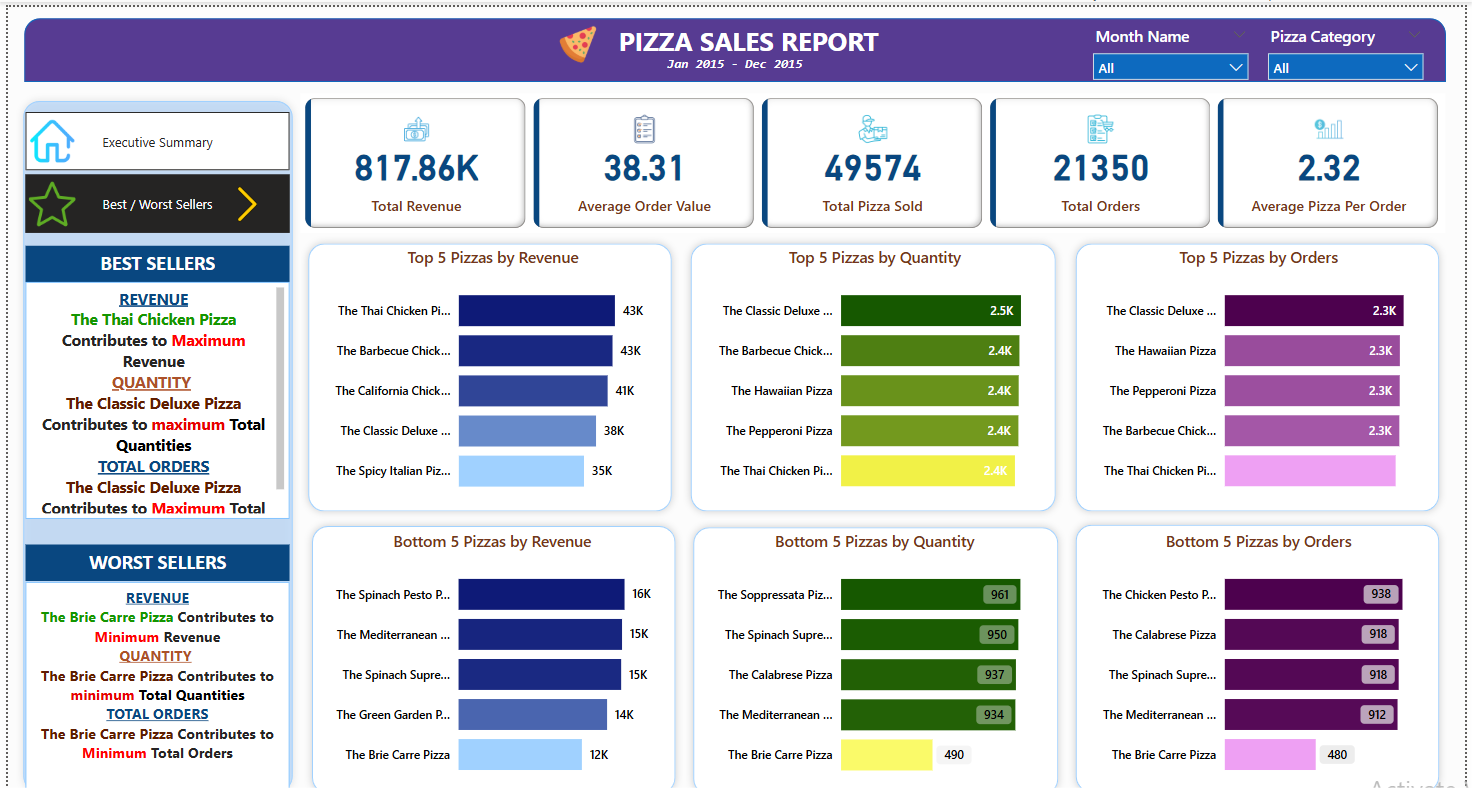

The dashboard page shown, as its layout file describes it:
{"tool":"powerbi","page":{"name":"Best / Worst Sellers","canvas":[1500,820],"ordinal":1},"visuals":[{"type":"shape","box":[8.2,88.6,293.6,728.2],"z":0},{"type":"cardVisual","fields":{"Data":["Calculated Measures.Total Revenue","Calculated Measures.Average Order Value","Calculated Measures.Total Pizza Sold","Calculated Measures.Total Orders","Calculated Measures.Average Pizza Per Order"]},"box":[301.8,88.6,1179.2,144.3],"z":1000},{"type":"shape","box":[16.4,11.5,1464.5,65.6],"z":2000},{"type":"textbox","box":[606.8,11.5,313.2,65.6],"z":3000},{"type":"textbox","box":[611.7,44.3,273.9,32.8],"z":4000},{"type":"image","box":[562.5,14.8,49.2,49.2],"z":5000},{"type":"shape","box":[301.8,236.2,390.3,291.9],"z":10000},{"type":"shape","box":[695.4,236.2,392,291.9],"z":11000},{"type":"shape","box":[1092.2,236.2,390.3,291.9],"z":12000},{"type":"textbox","box":[18,246,272.2,37.7],"z":16000},{"type":"textbox","box":[18,283.7,272.2,244.4],"z":17000},{"type":"textbox","box":[18,554.3,272.2,37.7],"z":18000},{"type":"textbox","box":[18,592,272.2,213.2],"z":19000},{"type":"slicer","fields":{"Values":["Pizza Category Key.Pizza Category"]},"box":[1287.5,14.2,180,61.7],"z":20000},{"type":"slicer","fields":{"Values":["Date.Month_Name"]},"box":[1107.5,14.2,180,61.7],"z":21000},{"type":"shape","box":[305,526.5,390.3,291.9],"z":21001},{"type":"shape","box":[697.8,528.1,392,291.9],"z":21002},{"type":"shape","box":[1092.2,524.8,390.3,291.9],"z":21003},{"type":"barChart","title":"Top 5 Pizzas by Revenue","fields":{"Category":["Pizza Name Dim.Pizza Name"],"Y":["Calculated Measures.Total Revenue"]},"box":[320,246,358,271],"z":21004},{"type":"barChart","title":"Bottom 5 Pizzas by Revenue","fields":{"Category":["Pizza Name Dim.Pizza Name"],"Y":["Calculated Measures.Total Revenue"]},"box":[319.8,537.9,359.2,270.6],"z":21005},{"type":"barChart","title":"Top 5 Pizzas by Quantity","fields":{"Category":["Pizza Name Dim.Pizza Name"],"Y":["Calculated Measures.Total Pizza Sold"]},"box":[713.4,246,359.2,270.6],"z":21006},{"type":"barChart","title":"Bottom 5 Pizzas by Quantity","fields":{"Category":["Pizza Name Dim.Pizza Name"],"Y":["Calculated Measures.Total Pizza Sold"]},"box":[713.3,538.9,358.9,271.1],"z":21007},{"type":"barChart","title":"Top 5 Pizzas by Orders","fields":{"Category":["Pizza Name Dim.Pizza Name"],"Y":["Calculated Measures.Total Orders"]},"box":[1108.6,246,359.2,270.6],"z":21008},{"type":"barChart","title":"Bottom 5 Pizzas by Orders","fields":{"Category":["Pizza Name Dim.Pizza Name"],"Y":["Calculated Measures.Total Orders"]},"box":[1108.6,537.9,359.2,270.6],"z":21009},{"type":"pageNavigator","box":[18,172.2,272.2,60.7],"z":21010},{"type":"pageNavigator","box":[18,108.2,272.2,60.7],"z":21011},{"type":"image","box":[201.7,180.4,88.6,45.9],"z":21012},{"type":"image","box":[18,108.2,55.8,60.7],"z":21013},{"type":"image","box":[16.4,172.2,57.4,60.7],"z":21014}]}

Visuals, with their boxes in screenshot pixels (x1, y1, x2, y2), scaled from the page's 1500x820 canvas onto the 1472x788 screenshot:
shape: <bbox>8, 85, 296, 785</bbox>
cardVisual - Calculated Measures.Total Revenue x Calculated Measures.Average Order Value: <bbox>296, 85, 1453, 224</bbox>
shape: <bbox>16, 11, 1453, 74</bbox>
textbox: <bbox>595, 11, 903, 74</bbox>
textbox: <bbox>600, 43, 869, 74</bbox>
image: <bbox>552, 14, 600, 62</bbox>
shape: <bbox>296, 227, 679, 507</bbox>
shape: <bbox>682, 227, 1067, 507</bbox>
shape: <bbox>1072, 227, 1455, 507</bbox>
textbox: <bbox>18, 236, 285, 273</bbox>
textbox: <bbox>18, 273, 285, 507</bbox>
textbox: <bbox>18, 533, 285, 569</bbox>
textbox: <bbox>18, 569, 285, 774</bbox>
slicer - Pizza Category Key.Pizza Category: <bbox>1263, 14, 1440, 73</bbox>
slicer - Date.Month_Name: <bbox>1087, 14, 1263, 73</bbox>
shape: <bbox>299, 506, 682, 786</bbox>
shape: <bbox>685, 507, 1069, 787</bbox>
shape: <bbox>1072, 504, 1455, 785</bbox>
"Top 5 Pizzas by Revenue" barChart: <bbox>314, 236, 665, 497</bbox>
"Bottom 5 Pizzas by Revenue" barChart: <bbox>314, 517, 666, 777</bbox>
"Top 5 Pizzas by Quantity" barChart: <bbox>700, 236, 1053, 496</bbox>
"Bottom 5 Pizzas by Quantity" barChart: <bbox>700, 518, 1052, 778</bbox>
"Top 5 Pizzas by Orders" barChart: <bbox>1088, 236, 1440, 496</bbox>
"Bottom 5 Pizzas by Orders" barChart: <bbox>1088, 517, 1440, 777</bbox>
pageNavigator: <bbox>18, 165, 285, 224</bbox>
pageNavigator: <bbox>18, 104, 285, 162</bbox>
image: <bbox>198, 173, 285, 217</bbox>
image: <bbox>18, 104, 72, 162</bbox>
image: <bbox>16, 165, 72, 224</bbox>
